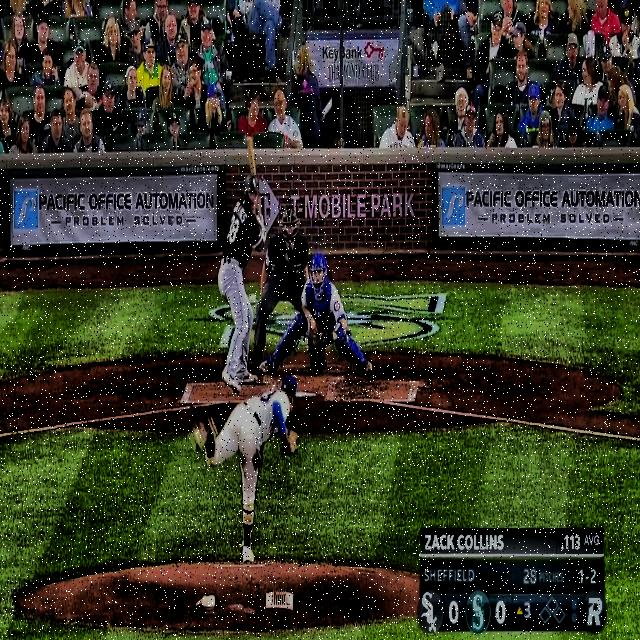baseball: (248, 291, 257, 307)
